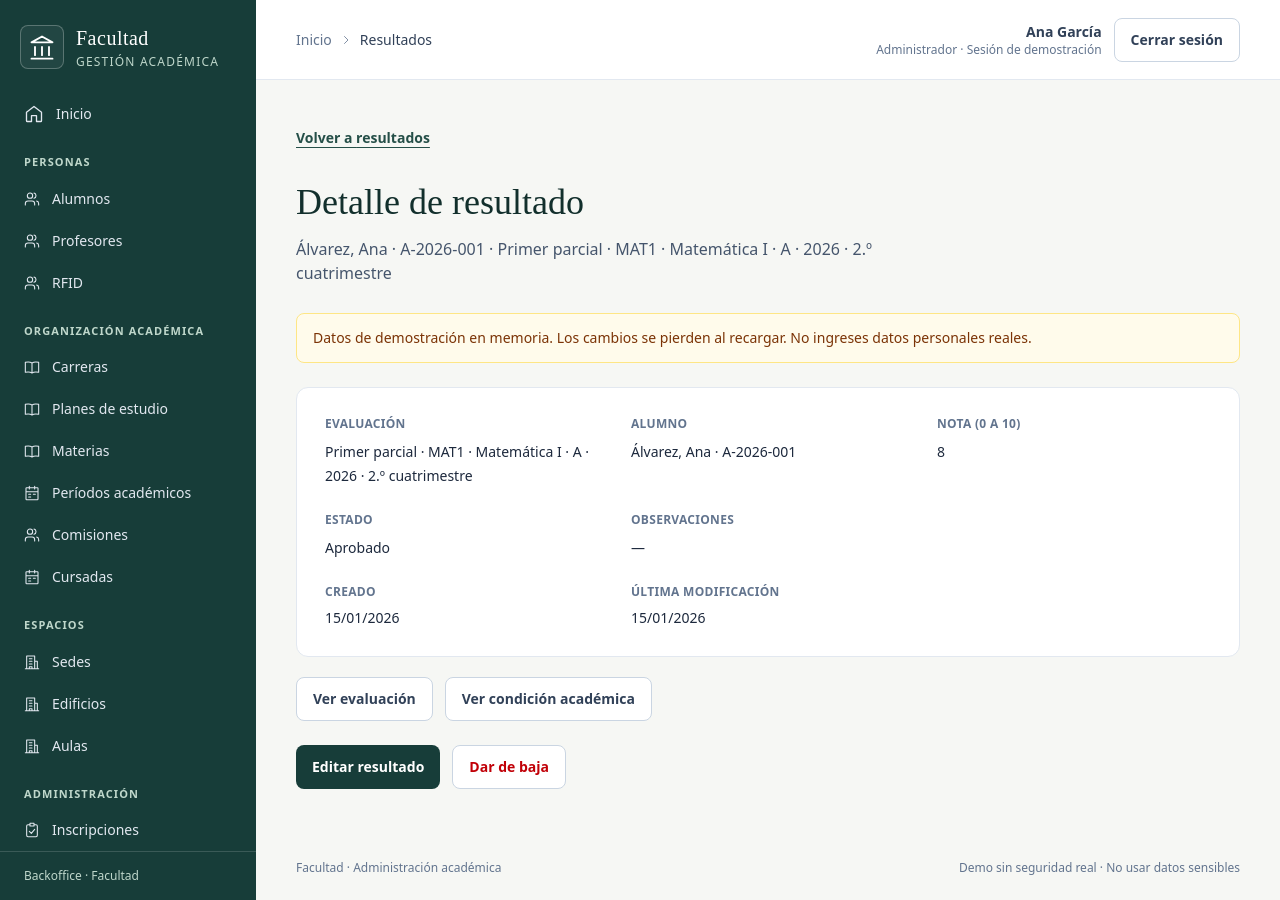
Test case: Flujos de gestión académica › administra la condición académica desde el resultado y conserva la nota
Click the link "Ver condición académica": (548, 699) left=445, top=677, right=652, bottom=721
(page scrolled)
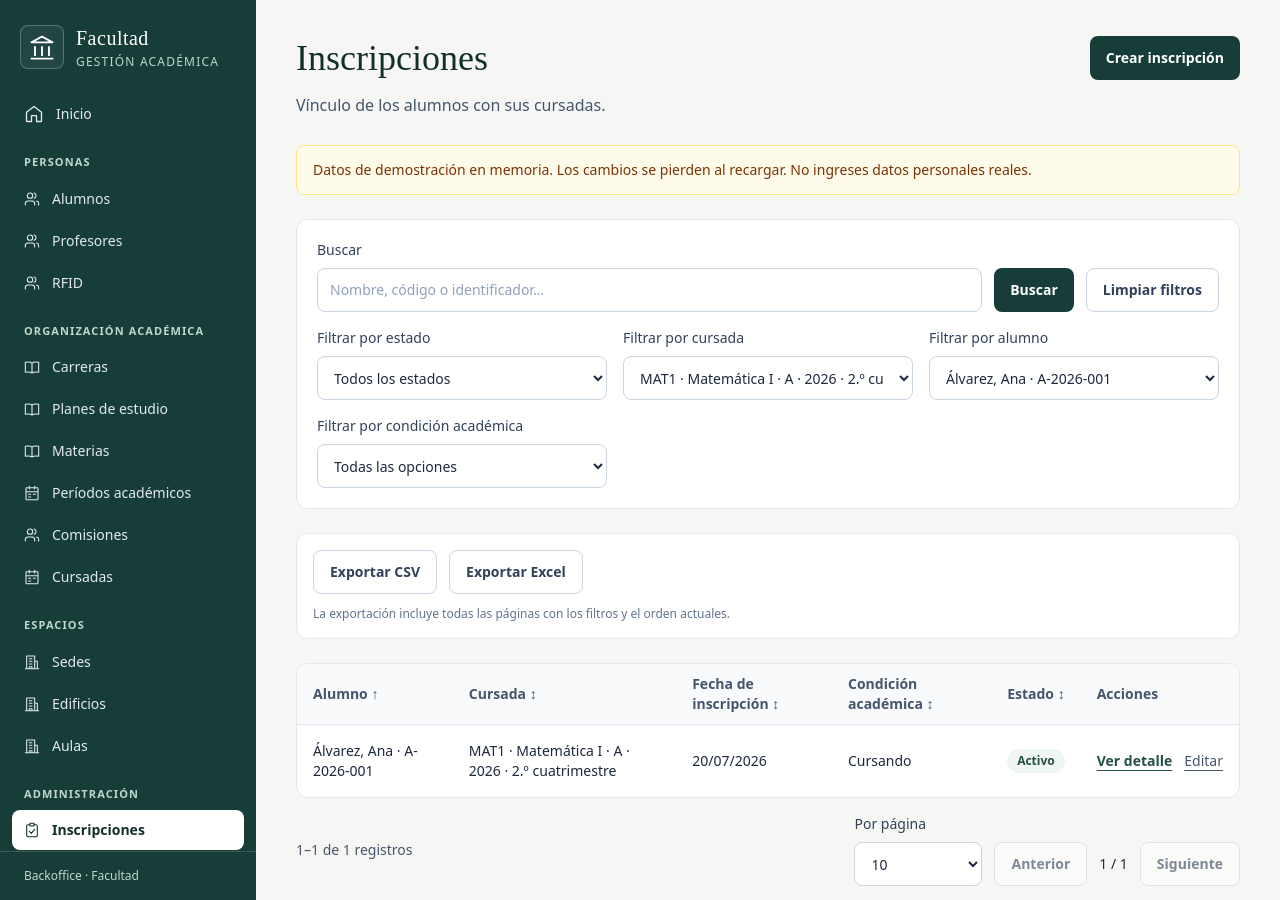
Expected: the dropdown labelled "Filtrar por alumno" shows "Álvarez, Ana · A-2026-001", left=929, top=356, right=1219, bottom=400
Expected: the dropdown labelled "Filtrar por cursada" shows "MAT1 · Matemática I · A · 2026 · 2.º cuatrimestre", left=623, top=356, right=913, bottom=400
Click the link with aria-label "Editar Álvarez": (1204, 760) left=1184, top=751, right=1223, bottom=770
(page scrolled)
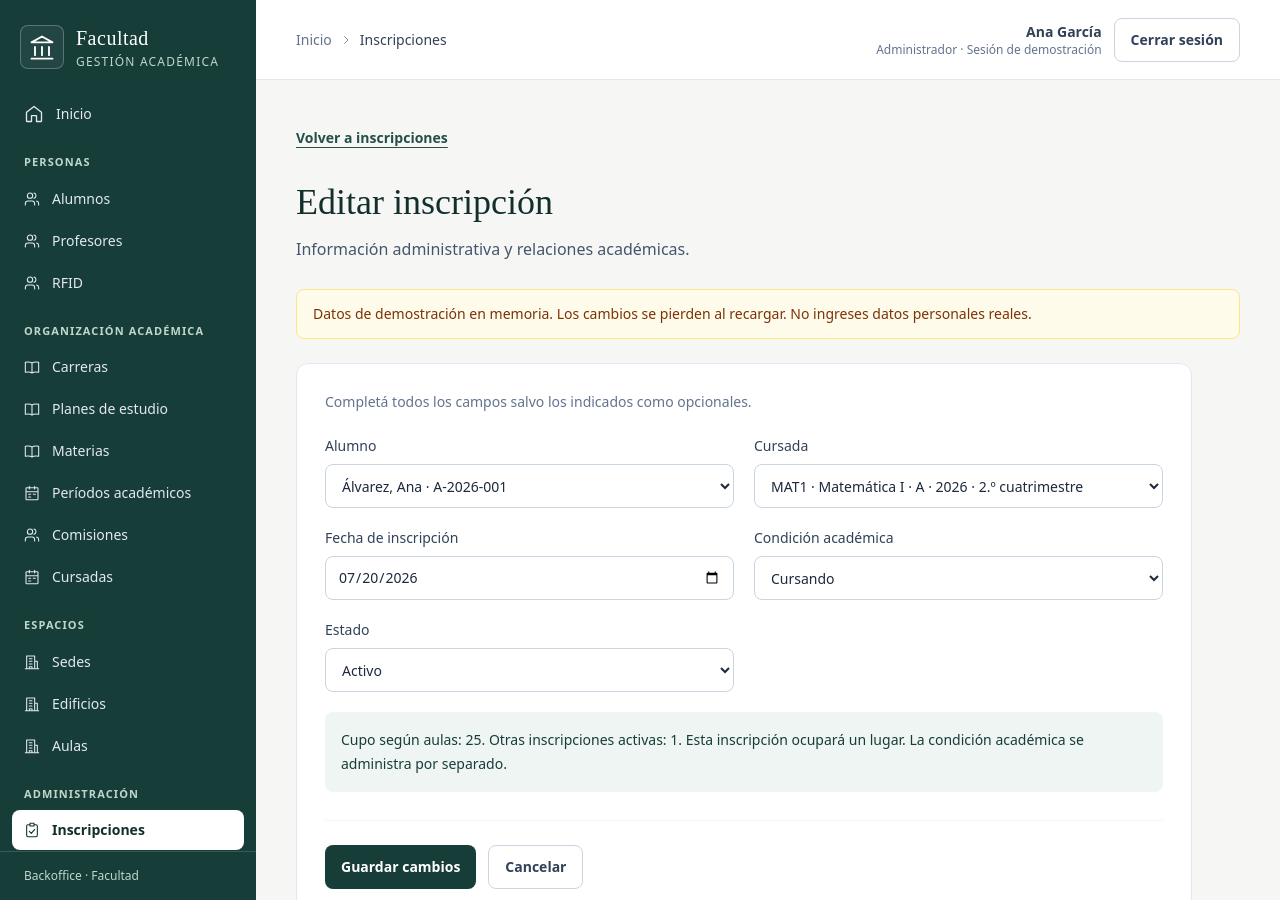
Select "Promocionado" in the dropdown labelled "Condición académica": (958, 578) left=754, top=556, right=1163, bottom=600
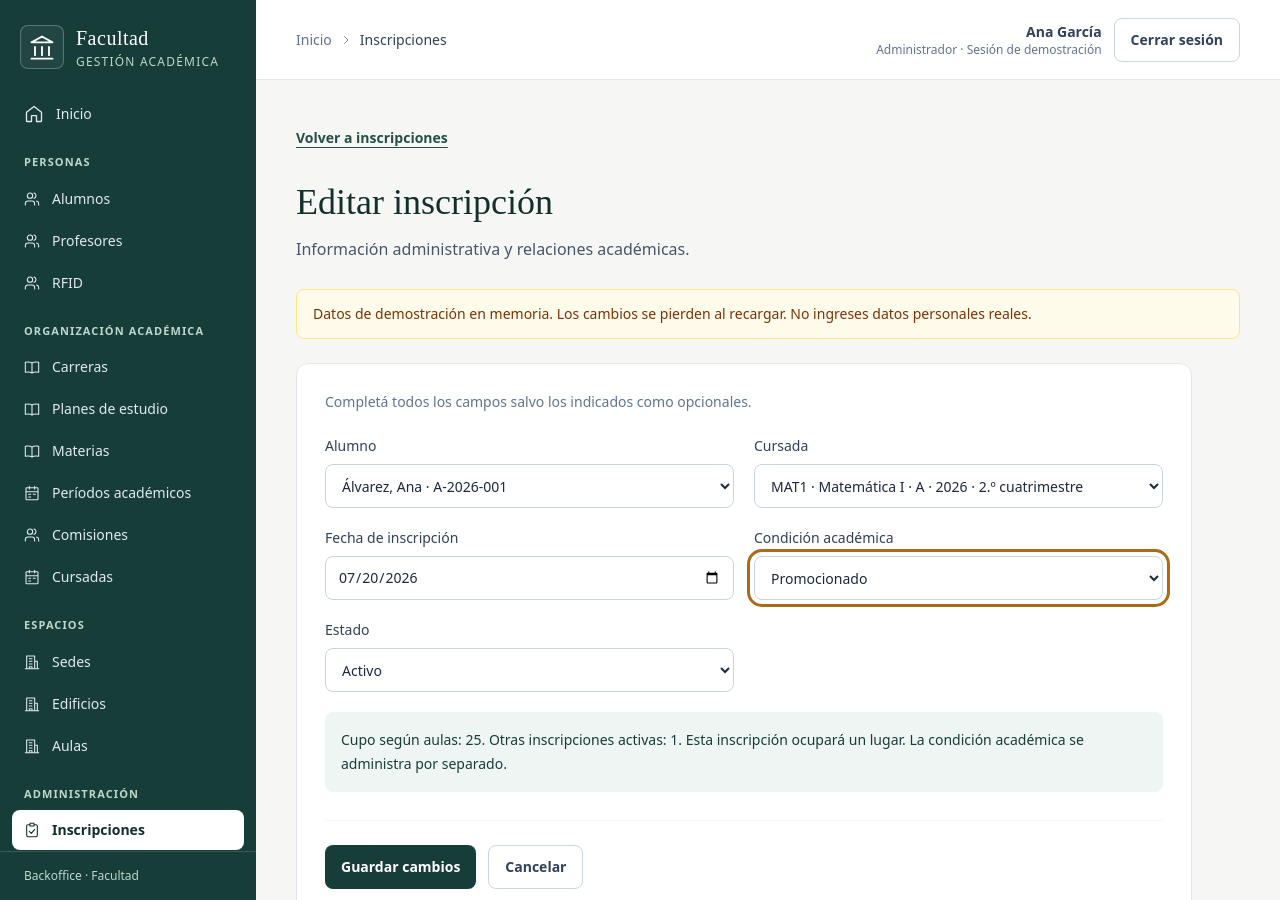
Click the button "Guardar cambios": (401, 867) left=325, top=845, right=476, bottom=889
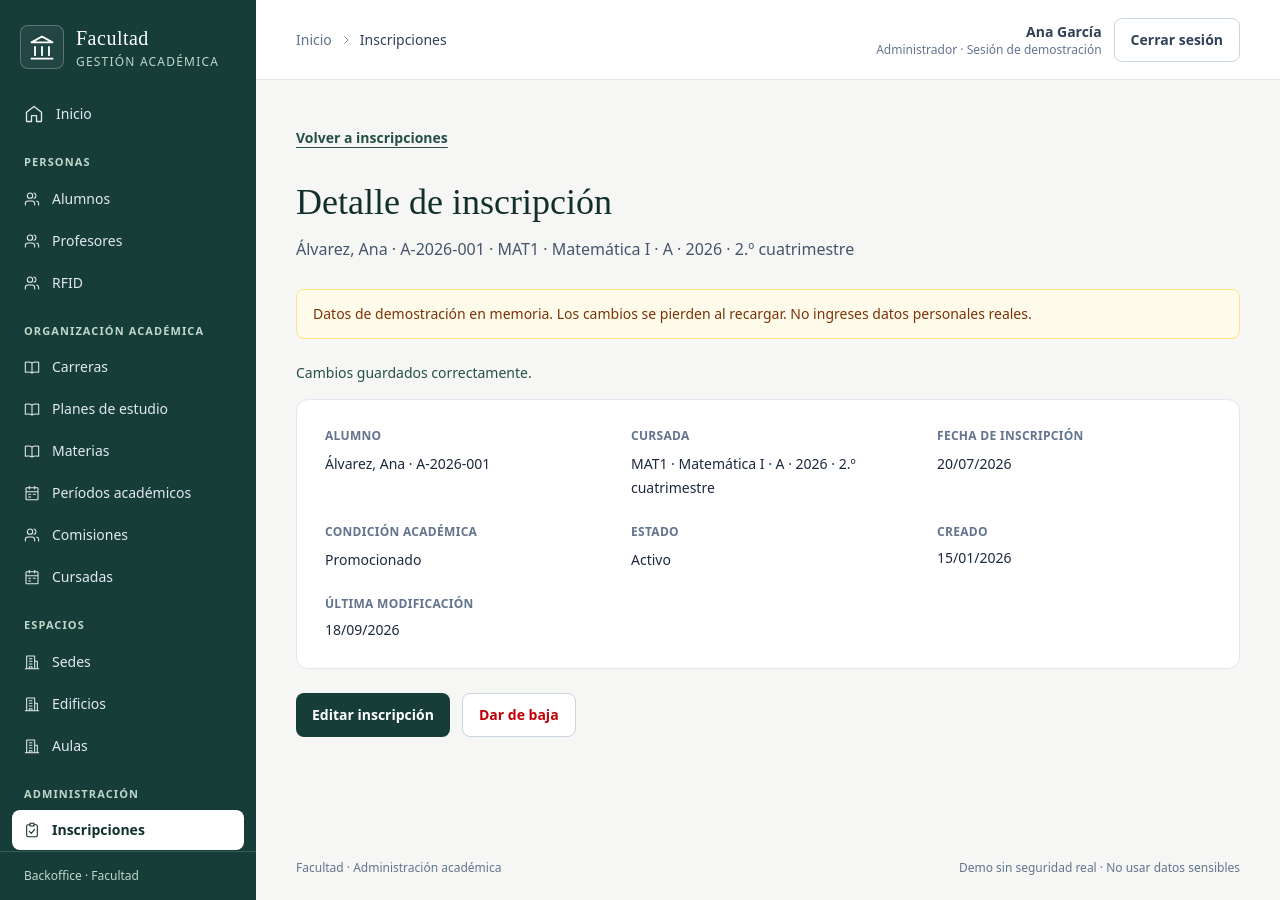
Expected: the text "Promocionado" is shown, left=325, top=550, right=421, bottom=569
